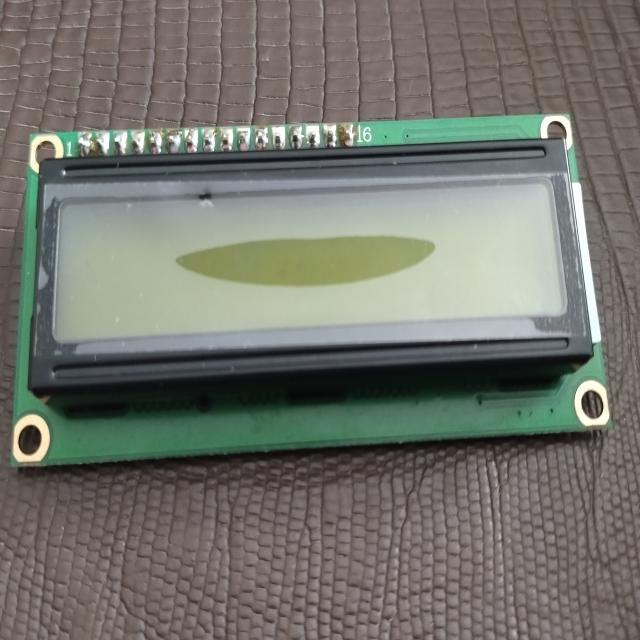lcd: (11, 112, 612, 467)
